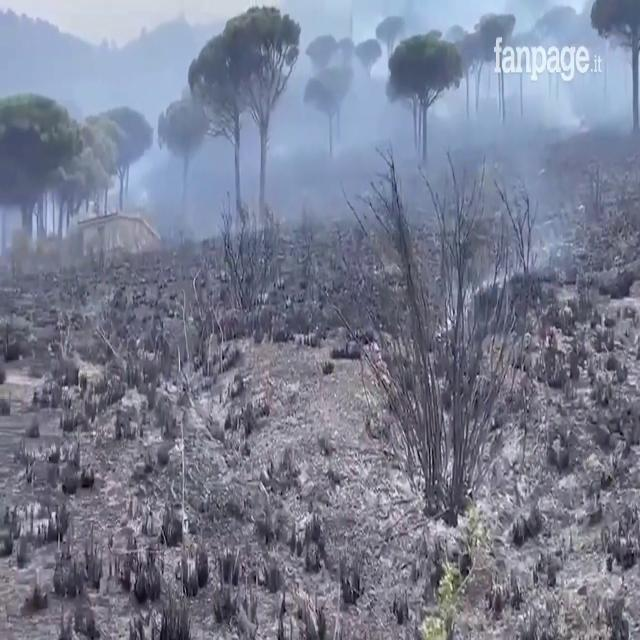Smoke: (109, 2, 640, 264)
